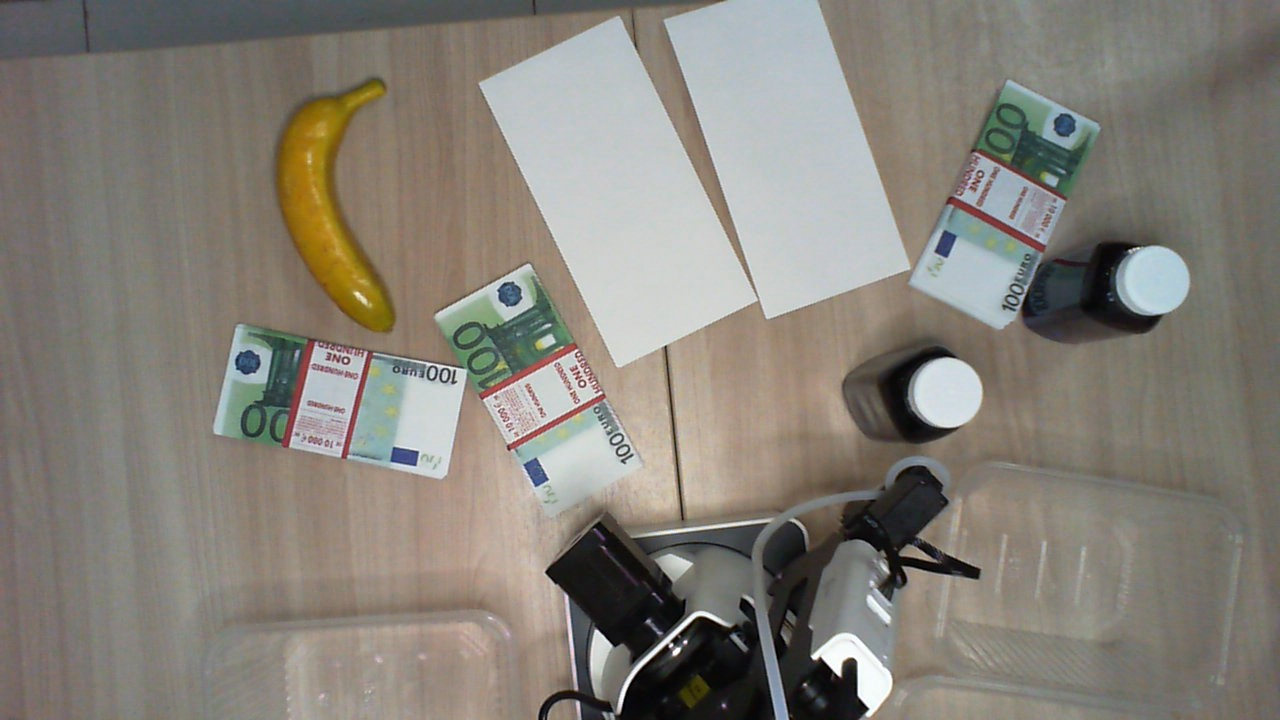banana: (273, 79, 401, 336)
bottle: (883, 345, 984, 443), (1090, 240, 1192, 334)
convert: (478, 17, 761, 368), (665, 2, 910, 318)
money: (435, 263, 645, 512), (909, 81, 1103, 330), (211, 322, 468, 477)
